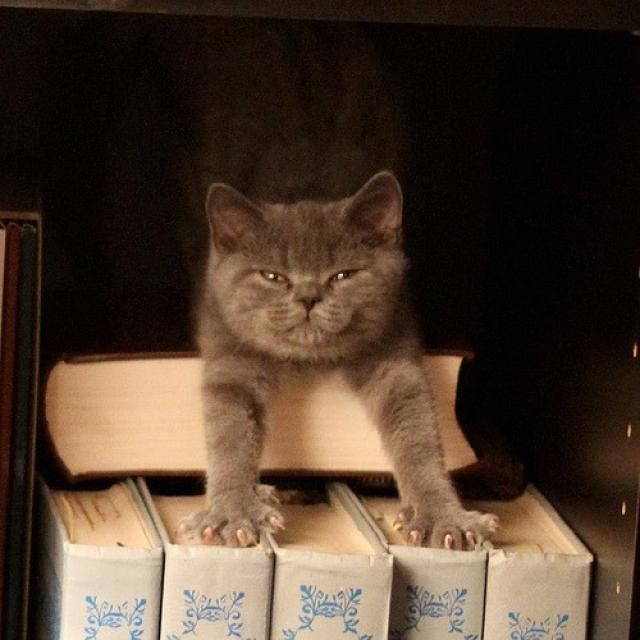cat: (171, 149, 526, 553)
